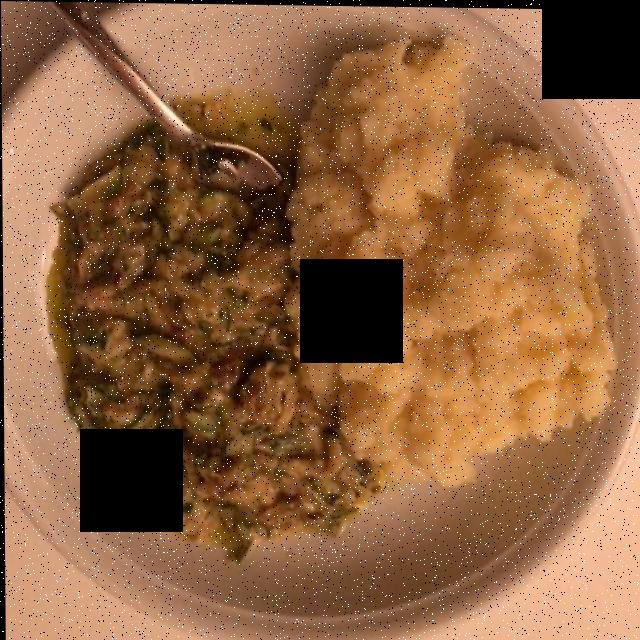mashed-potatoes-prepared-with-full-fat-milk-with-butter: (278, 31, 614, 499)
zucchini: (33, 126, 375, 555)
